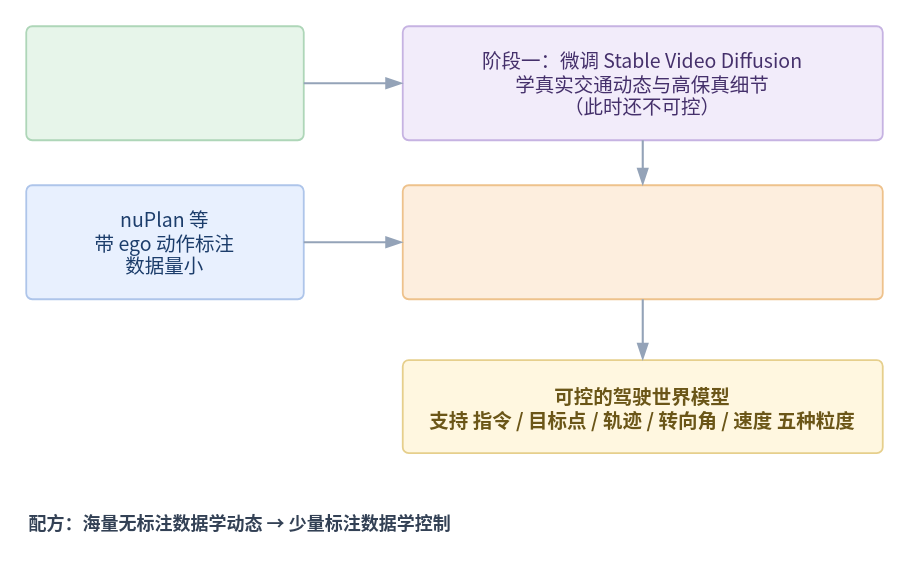
The diagram is 911 pixels wide and 569 high, and some of its shapes have lost their labels. The centre of each missing label's shape, as x and y in pixels:
"OpenDV-YouTube 1700+ 小时 无动作标注" goes at [164,82].
"阶段二：冻结大部分骨干 只训练动作条件分支 （学听指令，不破坏泛化）" goes at [642,241].
